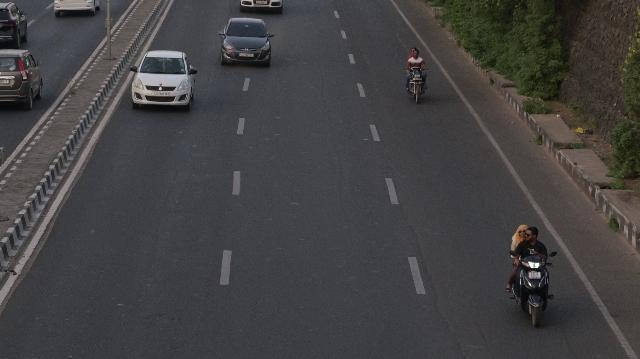Without Helmet: (524, 226, 538, 244), (514, 224, 528, 238), (410, 48, 416, 54), (414, 51, 418, 58)
